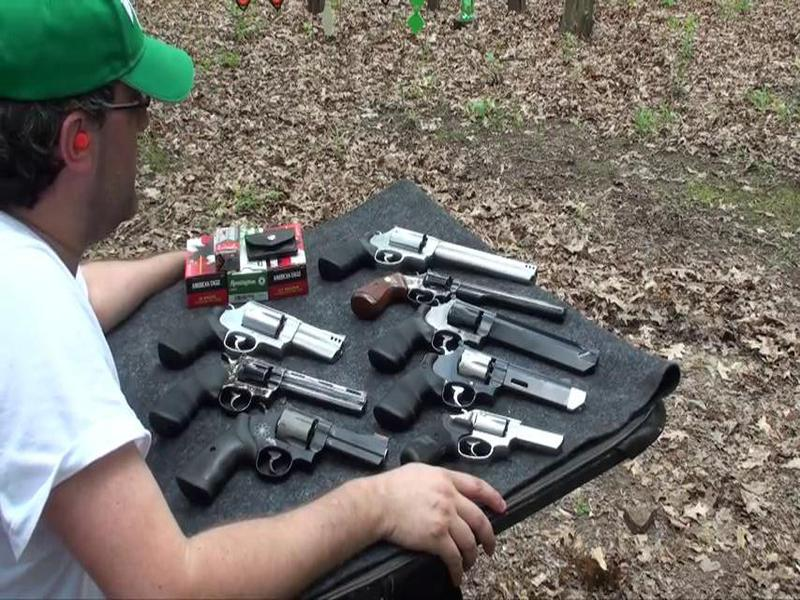Revolver: (150, 284, 345, 368)
